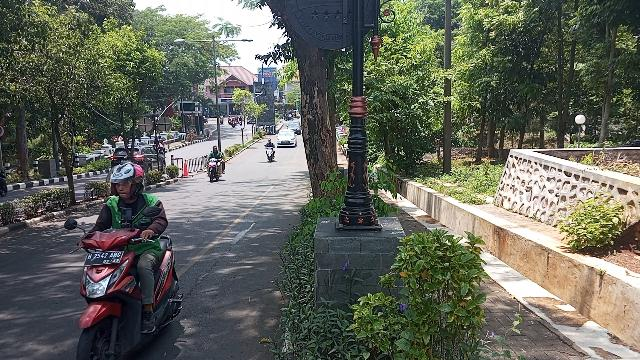helm: (107, 163, 147, 202)
motor: (64, 206, 186, 360), (206, 156, 225, 184), (266, 146, 277, 164)
non-helm: (214, 147, 219, 154), (270, 140, 273, 145)
